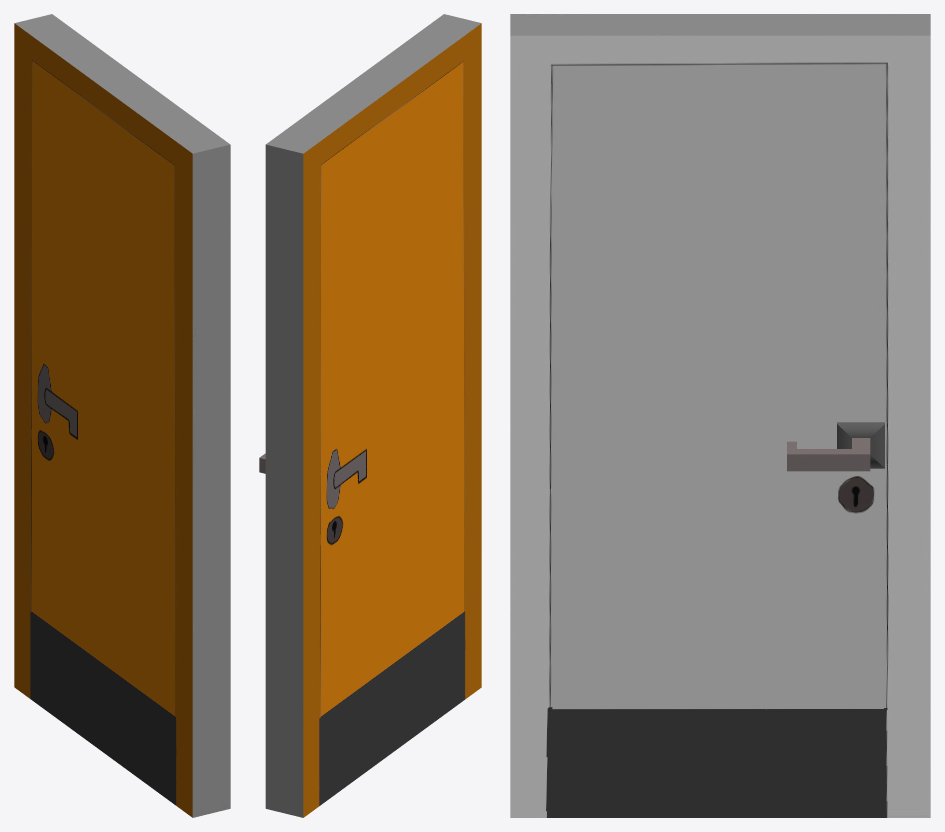
The model's file is Door_orange.fbx.
3 views of the same model, side by side, from view 1: azimuth 30°, elevation 25°; view 2: azimuth 150°, elevation 25°; view 3: azimuth 270°, elevation 25° (orthographic). The views are drawn at different scales.
Parts seen in each view (by area): view 1: Door_white; view 2: Door_white; view 3: Door_white.
Boxes of the visible parts, x1,y1,x2,y2 form: Door_white: (14,14,230,817); Door_white: (259,14,481,817); Door_white: (510,14,930,817).
Bounding box in the file's own units: 16.28 × 148 × 72.03.
Materials: 1 (1 with a texture image).
